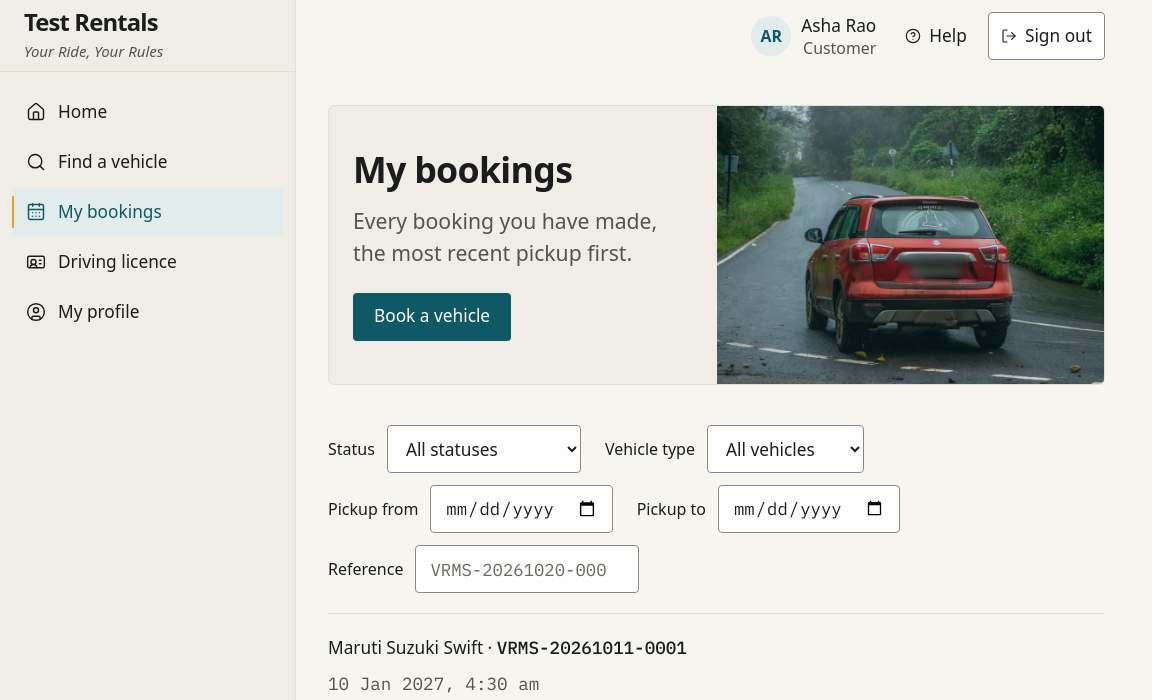
Test: booking history (History.View) › filters by status
Step 1. Select "Cancelled" in the dropdown labelled "Status" → (484, 449), box [387,425,581,473]
(page scrolled)
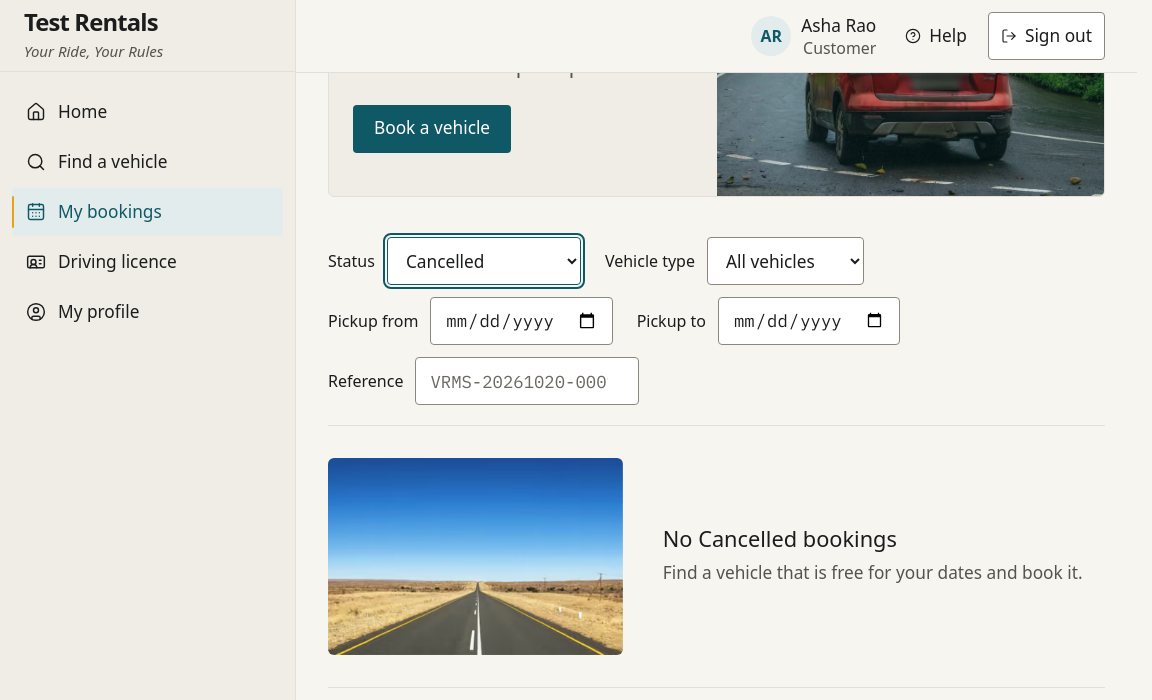
Result: the text "No Cancelled bookings" is shown at [663,525,897,552]
